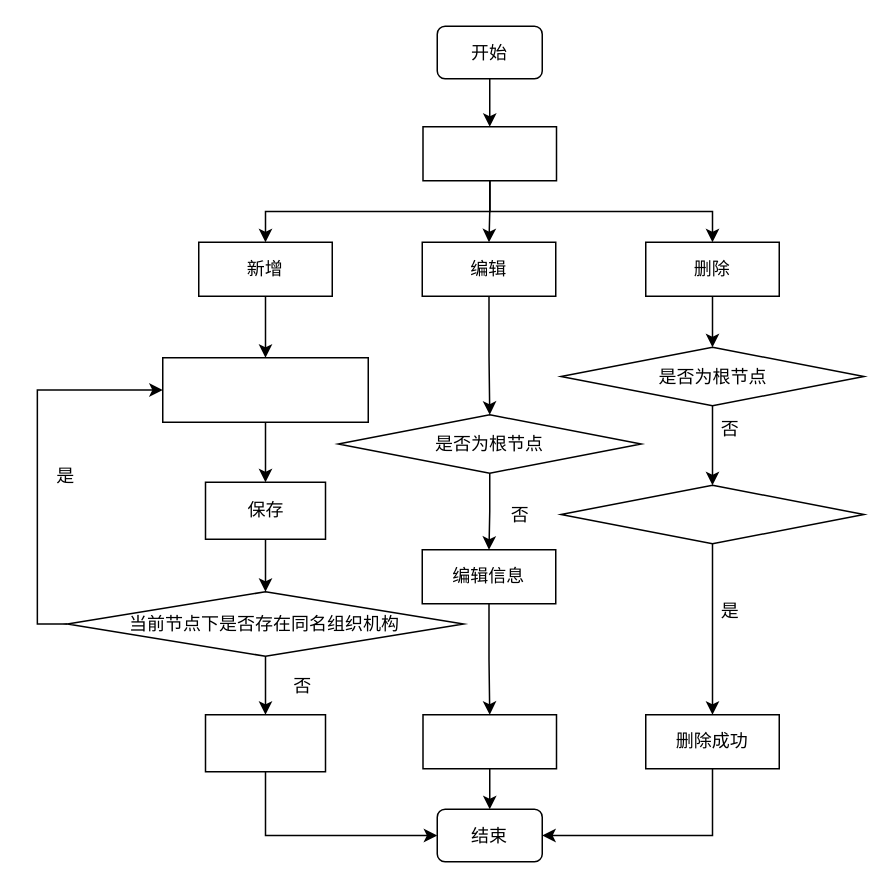
This 891x888 diagram has some shape labels left out. The shapes that lost their labels are listed below. From the top down, each one's box as (x1, y1, x2, y2) in pixels, then its label:
(422, 125, 556, 181): 选择父级节点
(161, 356, 368, 422): 填写组织机构信息
(560, 484, 864, 544): 是否确定删除
(204, 713, 326, 772): 保存成功
(422, 713, 556, 769): 编辑成功
